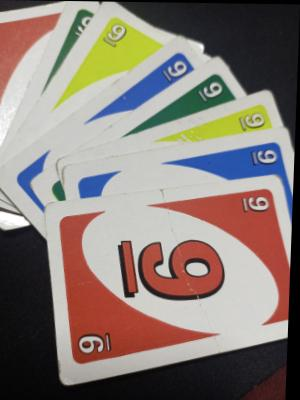num_9: (76, 325, 121, 364), (236, 187, 278, 219), (248, 141, 283, 172), (98, 20, 131, 51), (158, 56, 192, 86), (195, 76, 228, 105), (235, 108, 270, 135), (71, 6, 94, 40)
